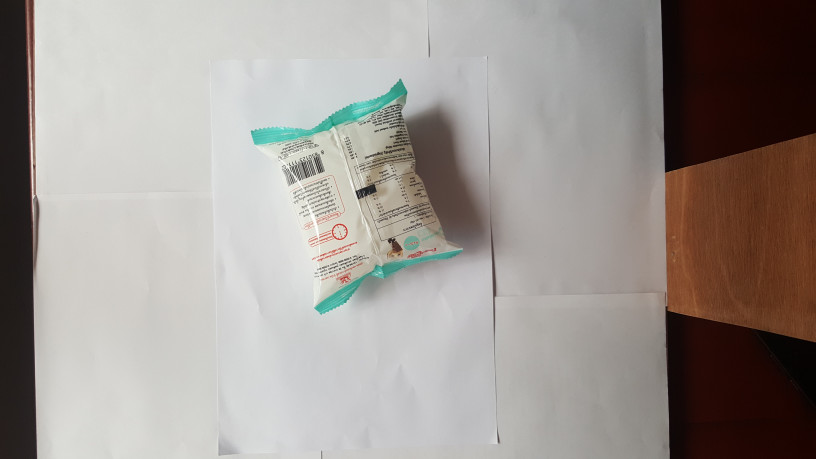farmhouse-sweetsandwich-chocolate: (246, 77, 465, 319)
